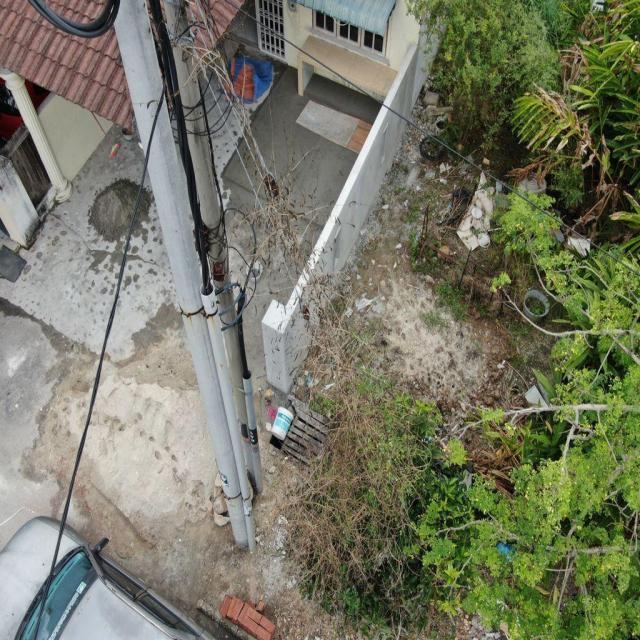critical vegetation: (216, 48, 424, 558)
